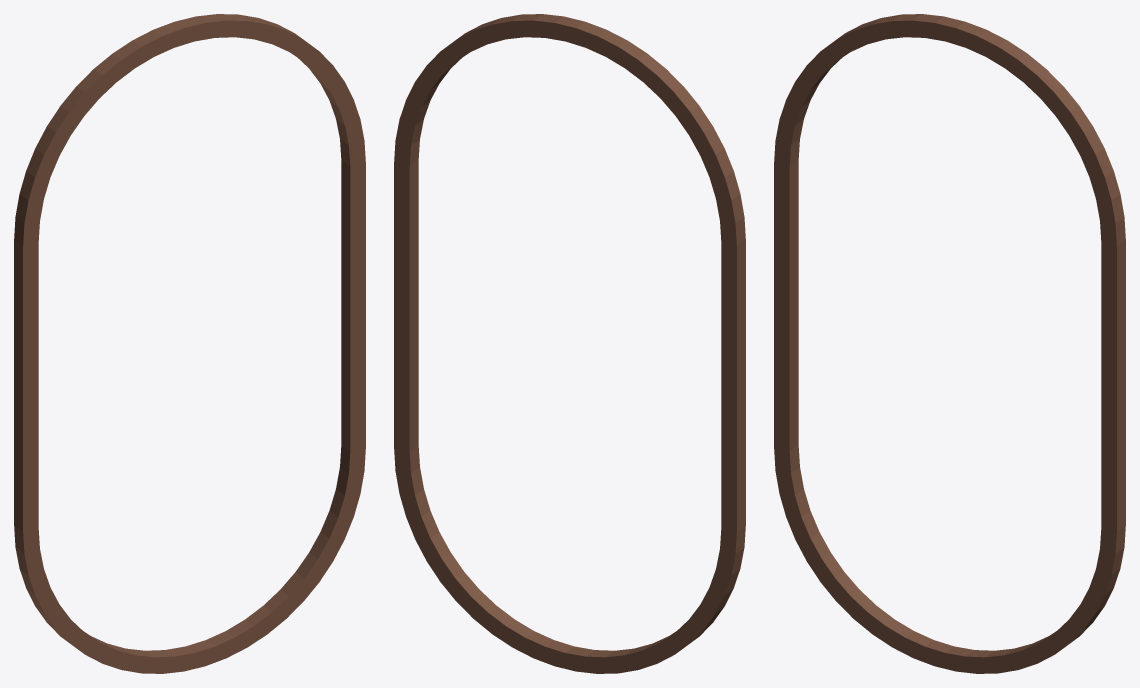
File: string.dae
3 renders of one model, left to right at view 1: azimuth 30°, elevation 25°; view 2: azimuth 150°, elevation 25°; view 3: azimuth 330°, elevation 25°, orthographic.
Visible parts, largest first — view 1: Ropey Stuff; view 2: Ropey Stuff; view 3: Ropey Stuff.
Part boxes in pixels (x1,y1,x2,y2): Ropey Stuff: (14,14,365,673); Ropey Stuff: (394,14,745,673); Ropey Stuff: (774,14,1125,673).
Size of the model in its own units: 0.22 by 0.01 by 0.3946.
